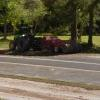Tree: (5, 0, 89, 32)
